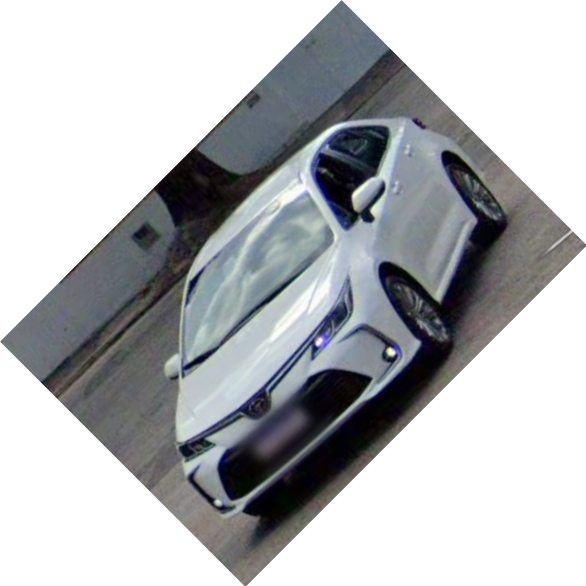car: (163, 116, 508, 517)
